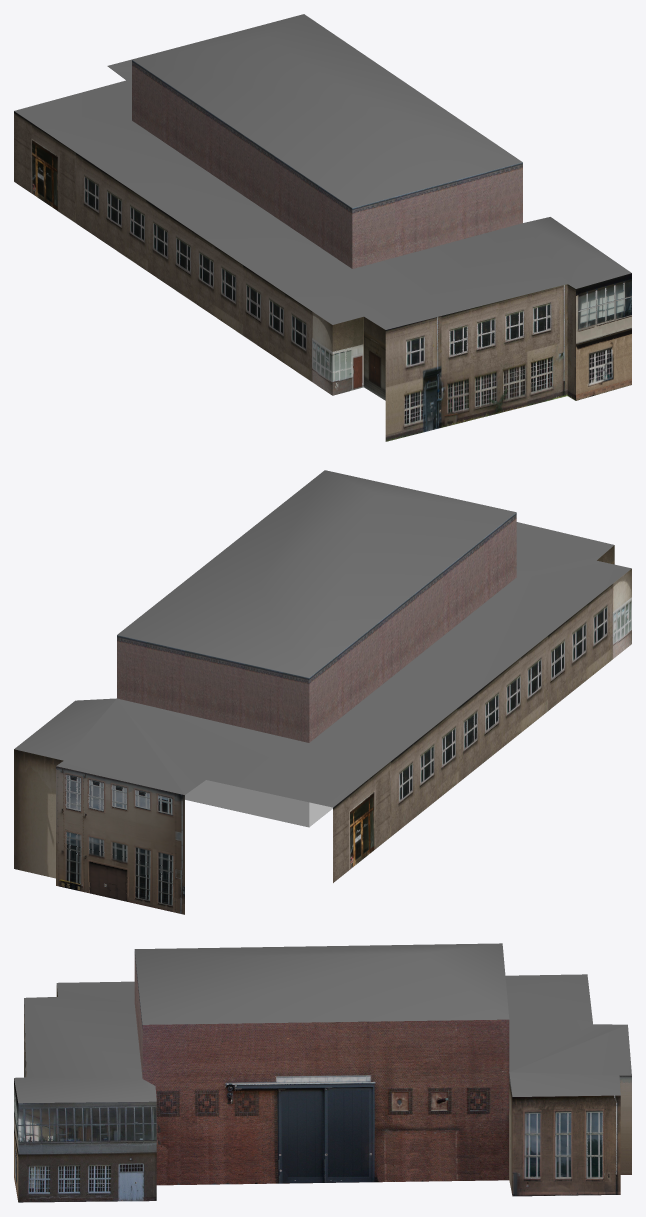
File: Binder-Bau.gltf
3 renders of one model, top to bottom at view 1: azimuth 30°, elevation 25°; view 2: azimuth 150°, elevation 25°; view 3: azimuth 270°, elevation 25°, orthographic. The views are drawn at different scales.
Parts seen in each view (by area): view 1: Dach.1; view 2: Dach.1; view 3: Dach.1.
Boxes of the visible parts, box(x1,y1,x2,y2) form: Dach.1: box(14, 14, 631, 441); Dach.1: box(14, 470, 631, 914); Dach.1: box(14, 943, 631, 1202).
Size of the model in its own units: 37.82 by 26 by 76.68.
Materials: 16 (15 with a texture image).
